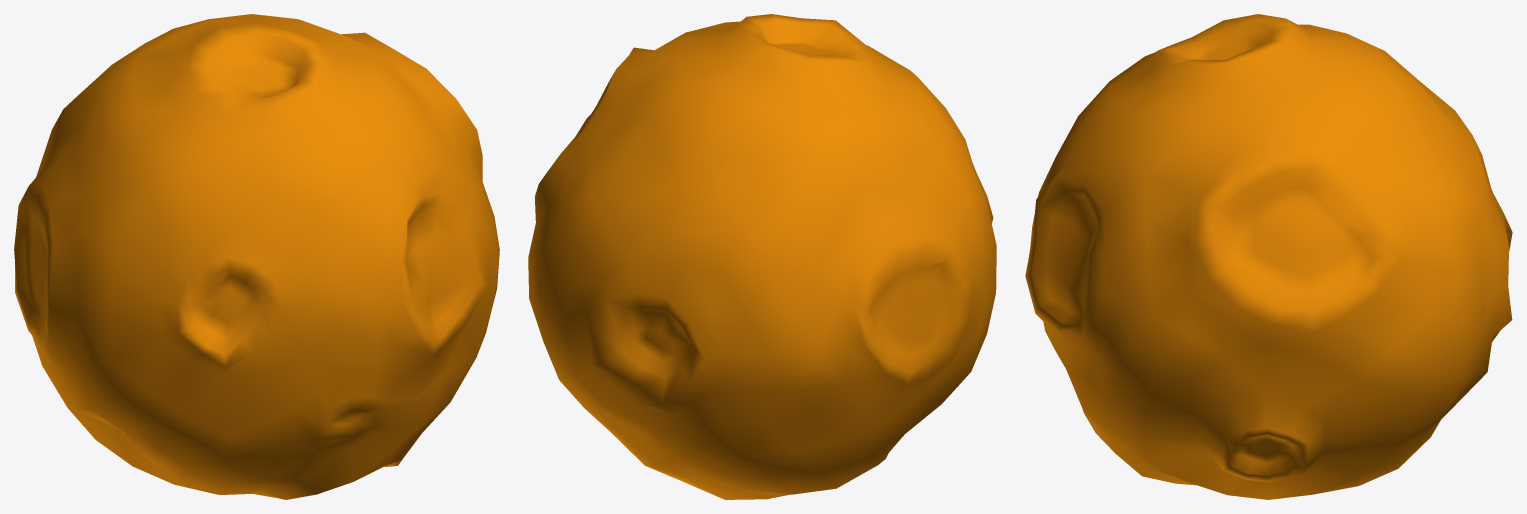
Rendered from Planet4.fbx.
The picture shows the model from 3 angles, left to right: view 1: azimuth 30°, elevation 25°; view 2: azimuth 150°, elevation 25°; view 3: azimuth 270°, elevation 25°; orthographic projection. The views are drawn at different scales.
Parts seen in each view (by area): view 1: pPlatonic1; view 2: pPlatonic1; view 3: pPlatonic1.
Boxes of the visible parts, x1,y1,x2,y2 form: pPlatonic1: [14, 14, 499, 499]; pPlatonic1: [528, 14, 996, 499]; pPlatonic1: [1025, 14, 1512, 499].
Size of the model in its own units: 19.83 by 20.15 by 20.1.
